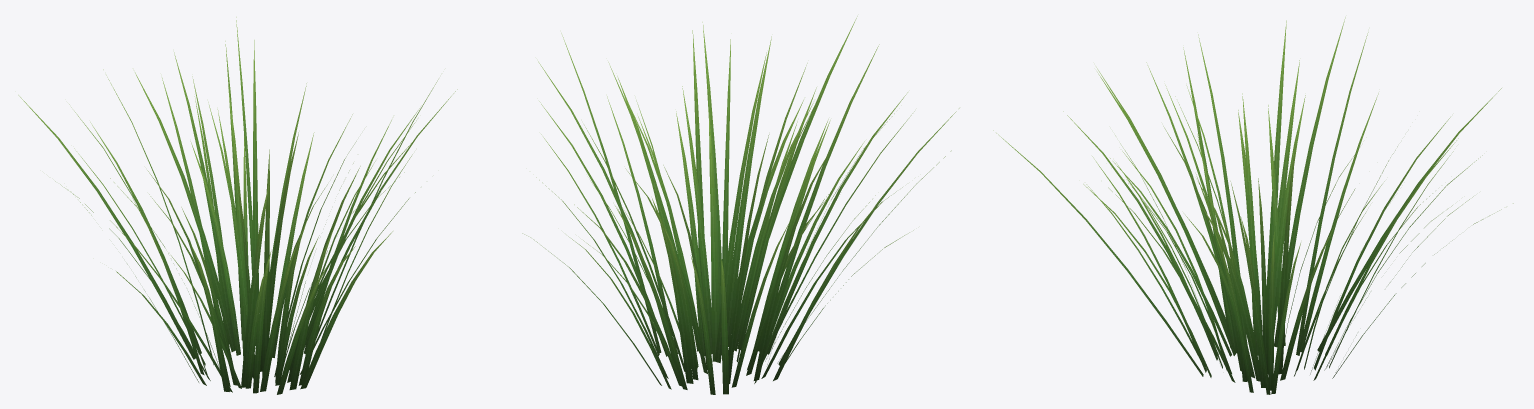
File: Short_grass.glb
3 renders of one model, left to right at view 1: azimuth 30°, elevation 25°; view 2: azimuth 150°, elevation 25°; view 3: azimuth 270°, elevation 25°, orthographic. The views are drawn at different scales.
Visible parts, largest first — view 1: Grass; view 2: Grass; view 3: Grass.
Boxes of the visible parts, bbox=[...] form: Grass: bbox=[18, 17, 457, 394]; Grass: bbox=[522, 16, 959, 394]; Grass: bbox=[993, 17, 1513, 394].
Size of the model in its own units: 0.4015 by 0.2786 by 0.4576.
Materials: 1 (1 with a texture image).
